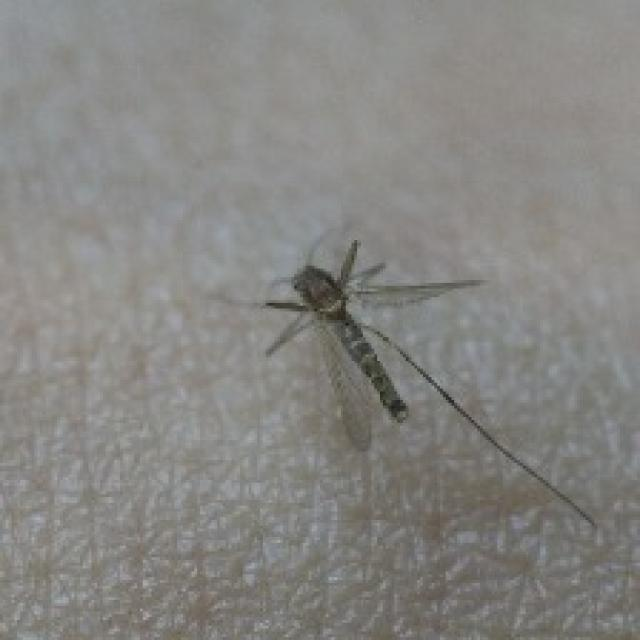culex: (212, 223, 594, 528)
